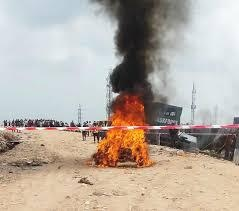fire: (91, 92, 153, 166)
